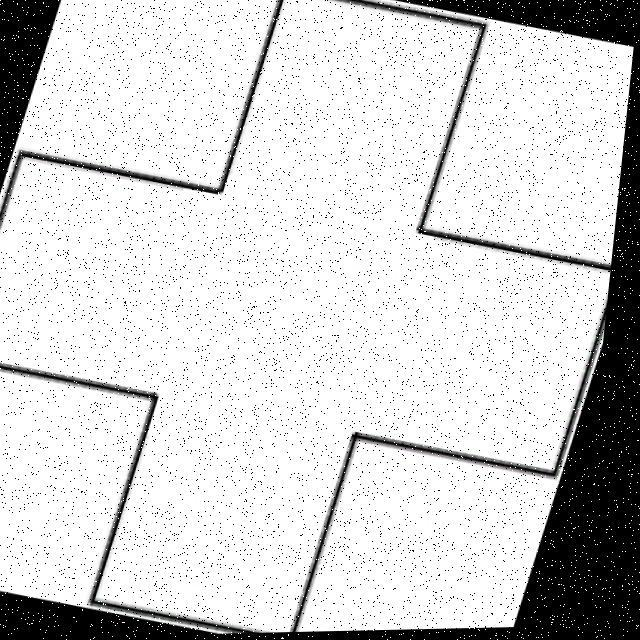cross: (4, 0, 622, 634)
